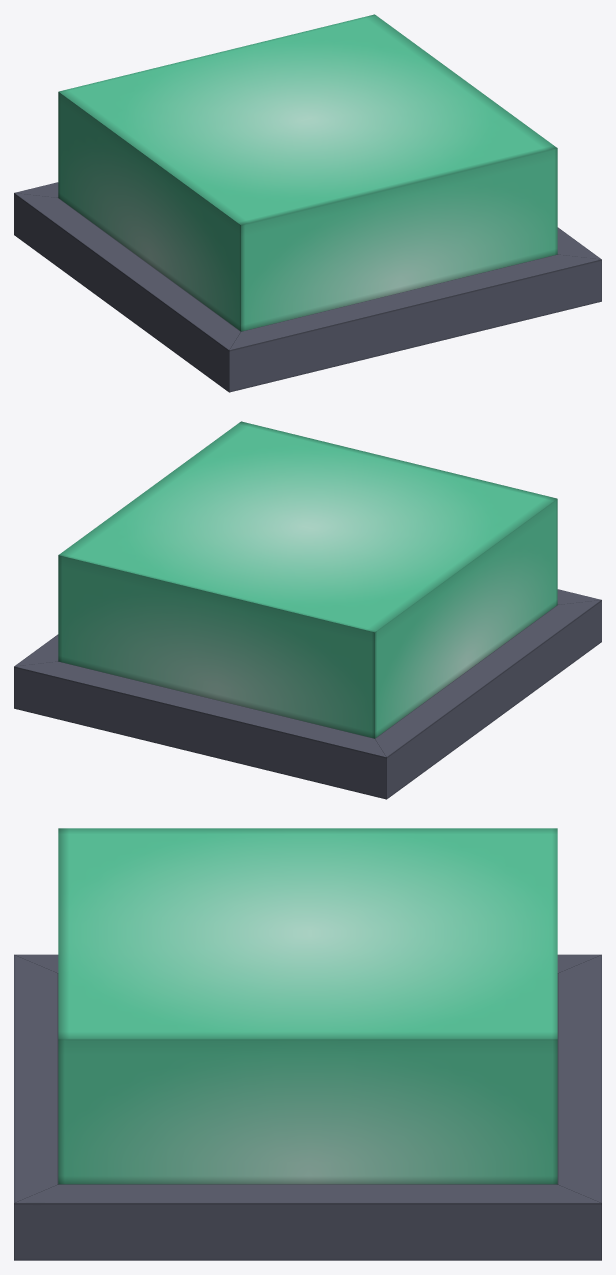
Rendered from Button_Squared_Green.FBX.
3 renders of one model, top to bottom at view 1: azimuth 30°, elevation 25°; view 2: azimuth 150°, elevation 25°; view 3: azimuth 270°, elevation 25°, orthographic. The views are drawn at different scales.
Parts seen in each view (by area): view 1: Push_Me, Button_Squared_Green; view 2: Push_Me, Button_Squared_Green; view 3: Push_Me, Button_Squared_Green.
Boxes of the visible parts, box(x1,y1,x2,y2) form: Push_Me: box(58, 14, 557, 331); Button_Squared_Green: box(14, 182, 601, 392); Push_Me: box(58, 421, 557, 738); Button_Squared_Green: box(14, 589, 601, 799); Push_Me: box(58, 828, 557, 1184); Button_Squared_Green: box(14, 954, 601, 1260).
Size of the model in its own units: 0.0922 by 0.0351 by 0.0922.
1 material, 1 textured.
